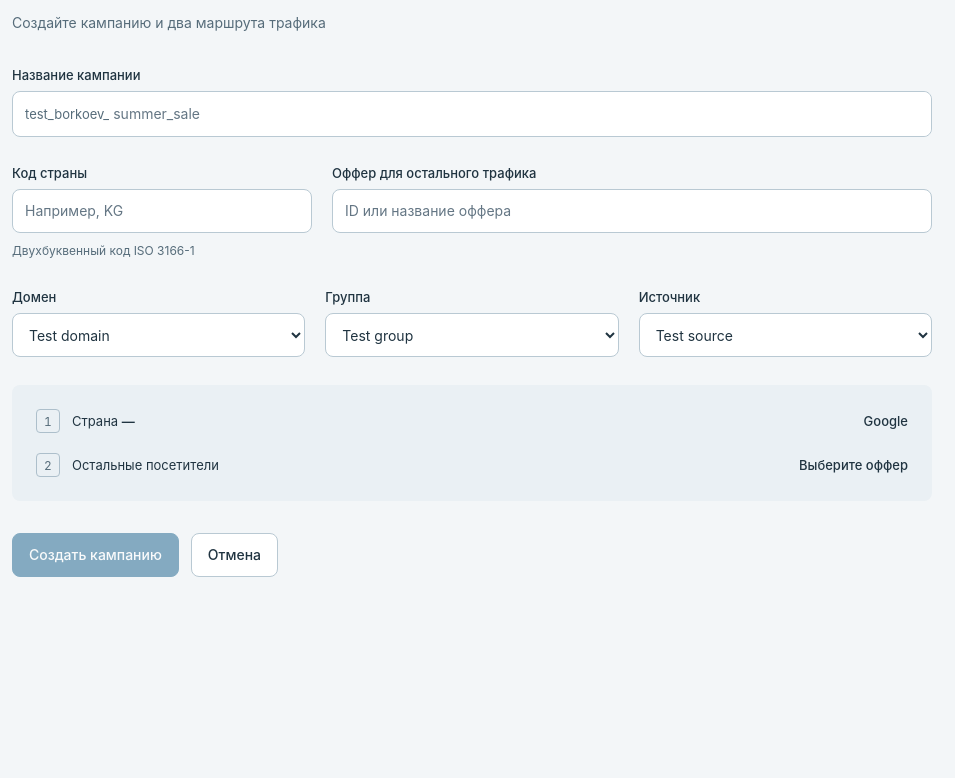
Scenario: creation recovery › survives remount and reconciles without another campaign POST
Later steps or results of the test are not shown.
Type "demo" into the field labelled "Название кампании".
click(520, 114); type("demo")  # box [109,92,931,136]
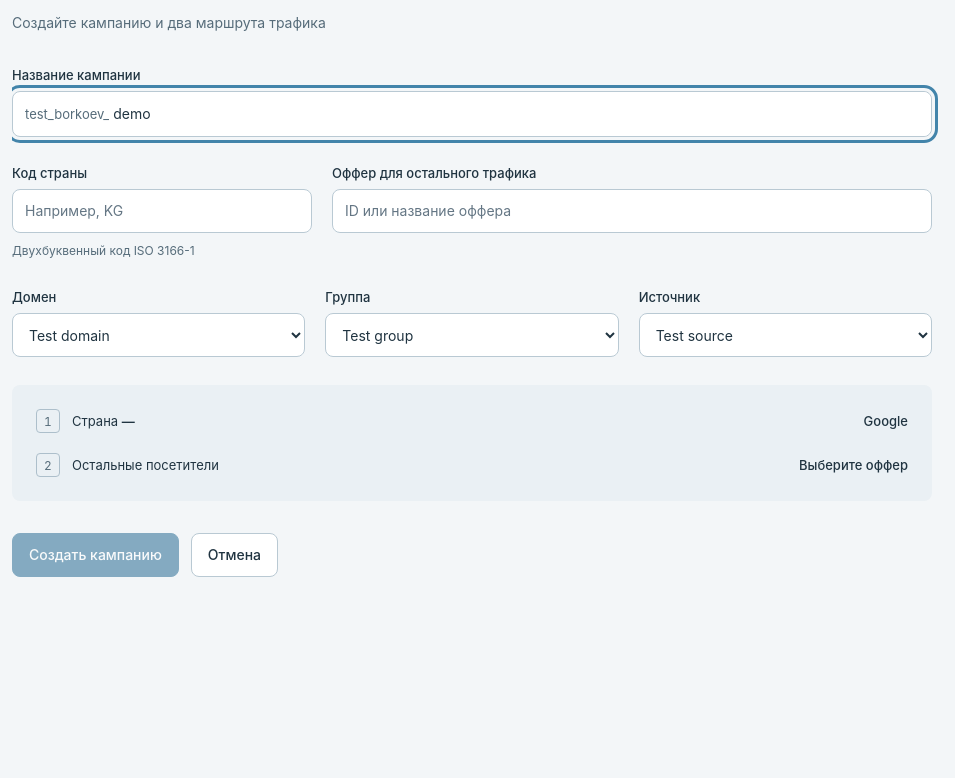
Type "KG" into the field labelled "Код страны".
click(162, 211); type("KG")  # box [12,189,312,233]
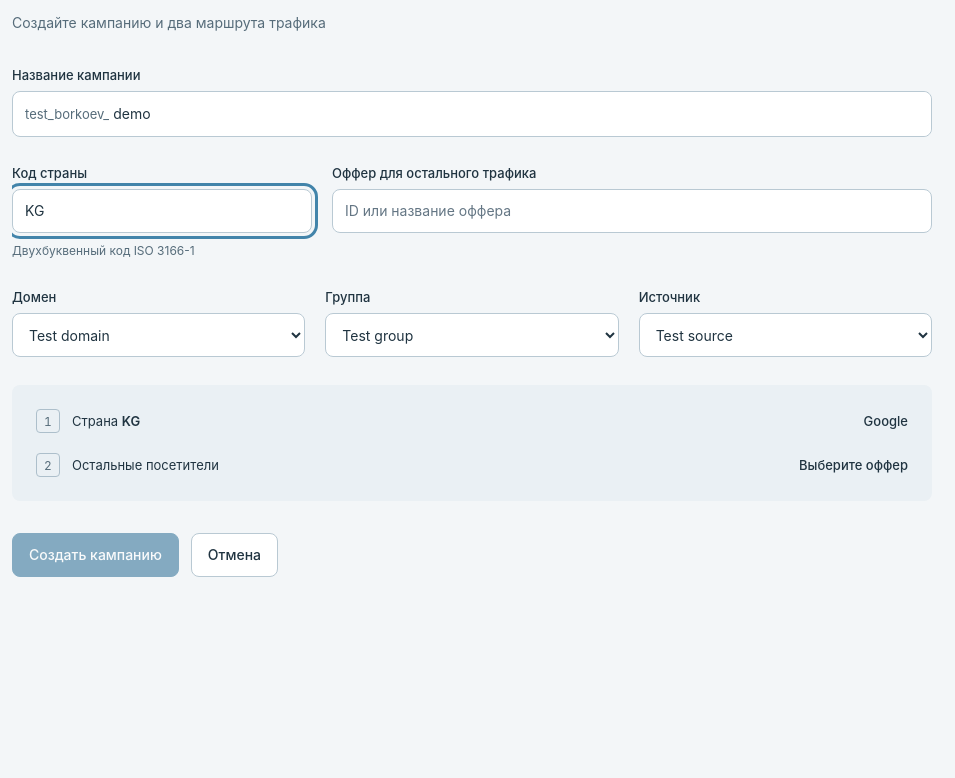
Type "11" into the dropdown labelled "Оффер для остального трафика".
click(632, 211); type("11")  # box [332,189,932,233]
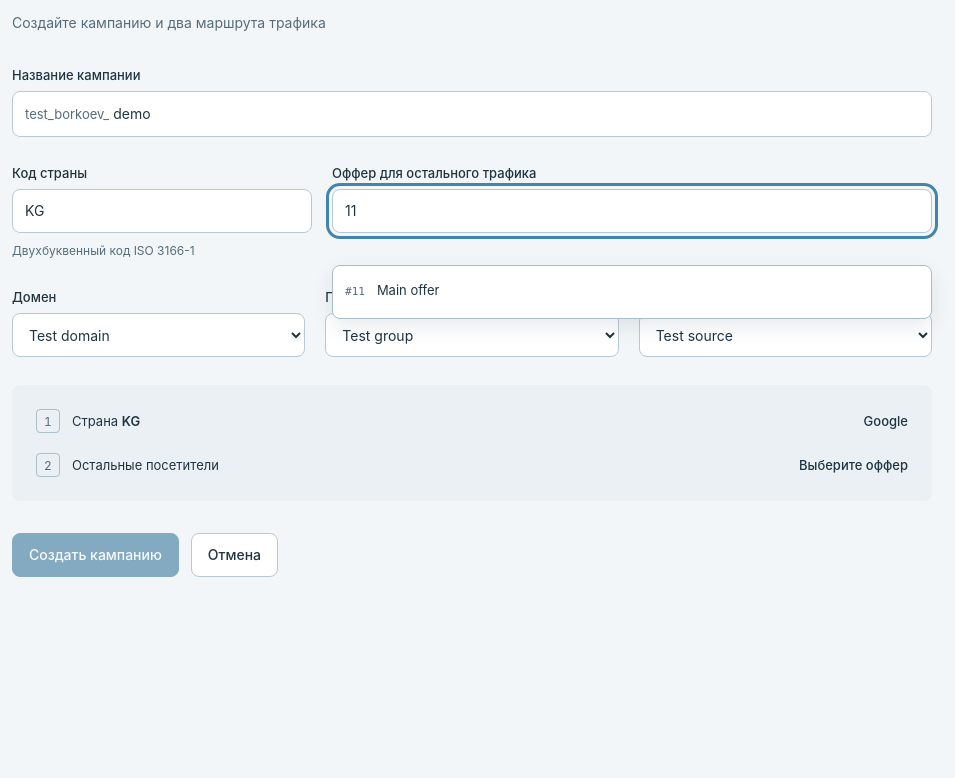
Click the option "#11 Main offer".
click(392, 290)  # box [345,282,439,298]
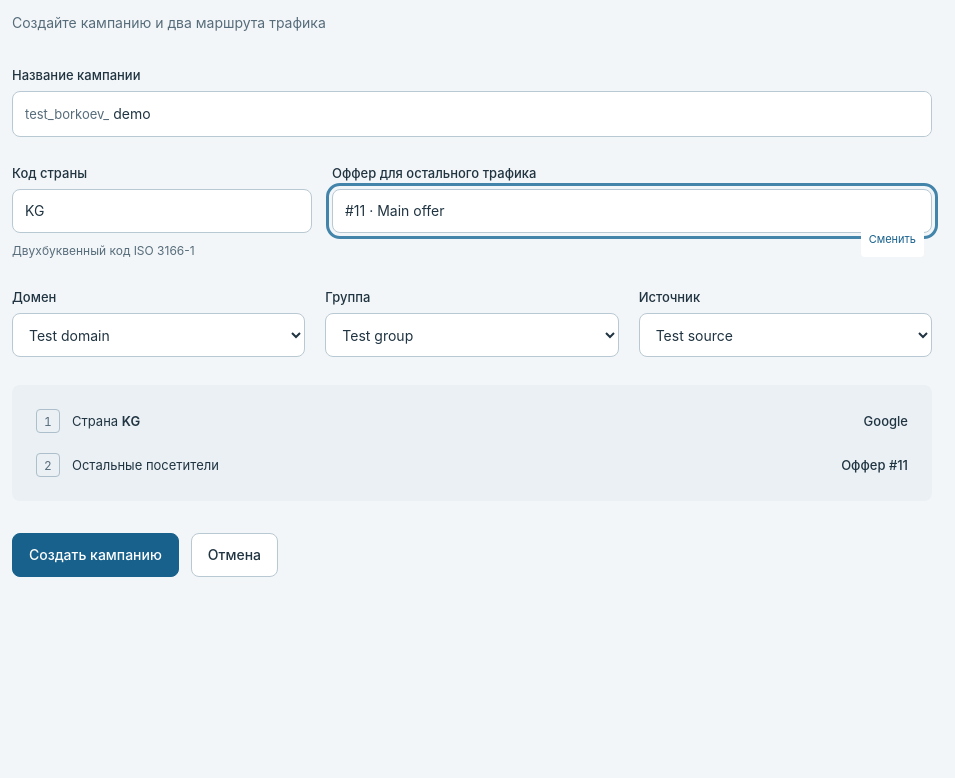
Click the button "Создать кампанию".
click(95, 555)  # box [12,533,179,577]
(page scrolled)
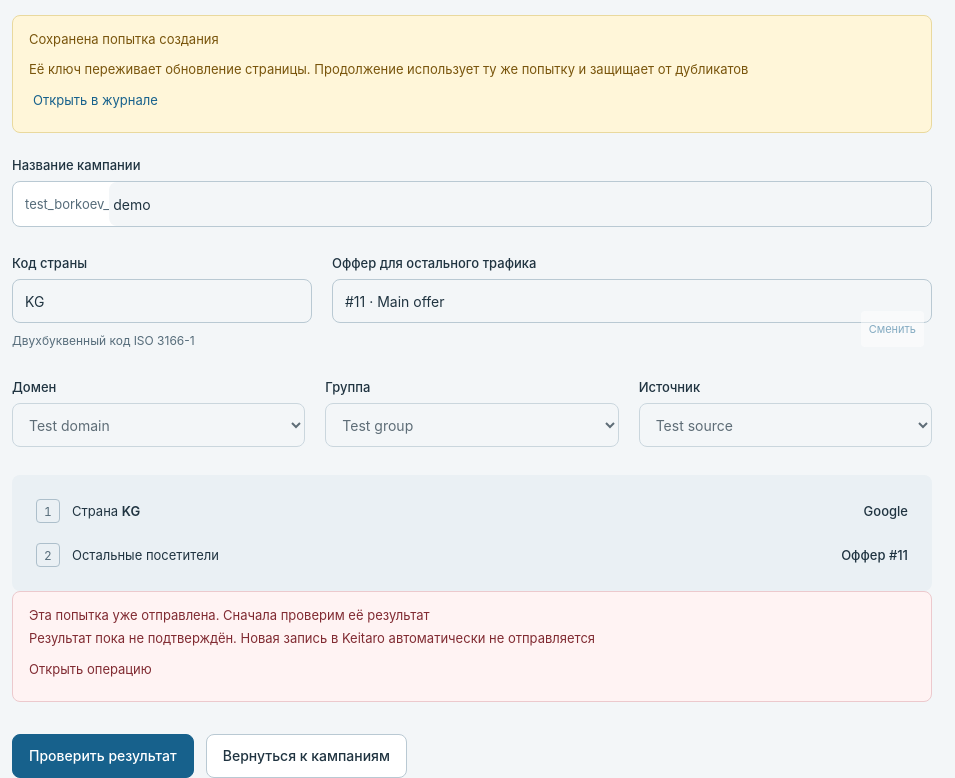
Check: the button "Проверить результат" is shown, box [12,734,194,777]
